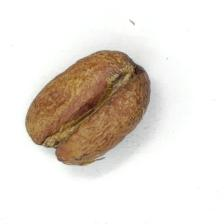NG: (28, 55, 137, 156)
